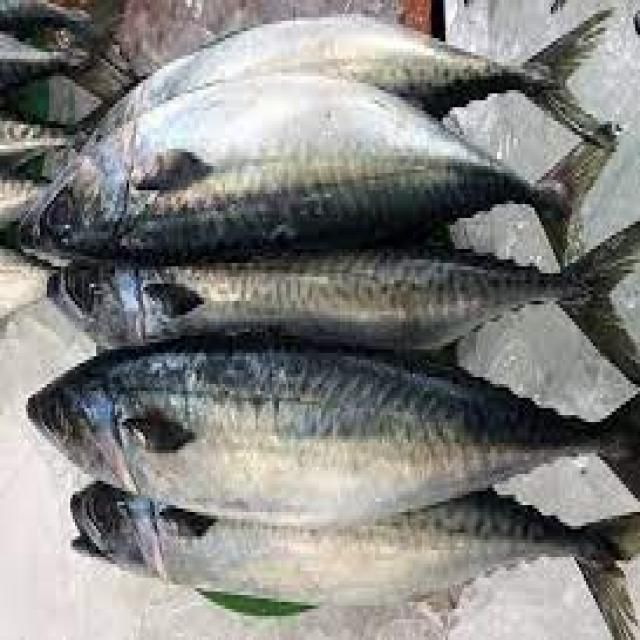fish: (12, 69, 638, 294)
